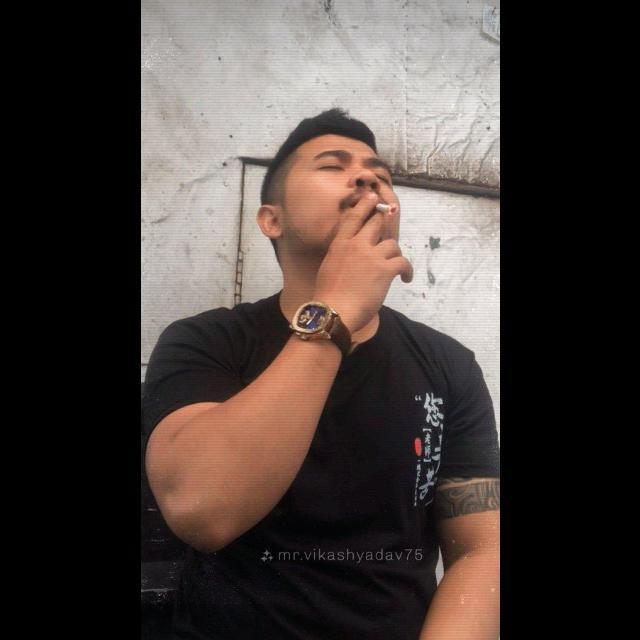rokok: (371, 202, 397, 218)
